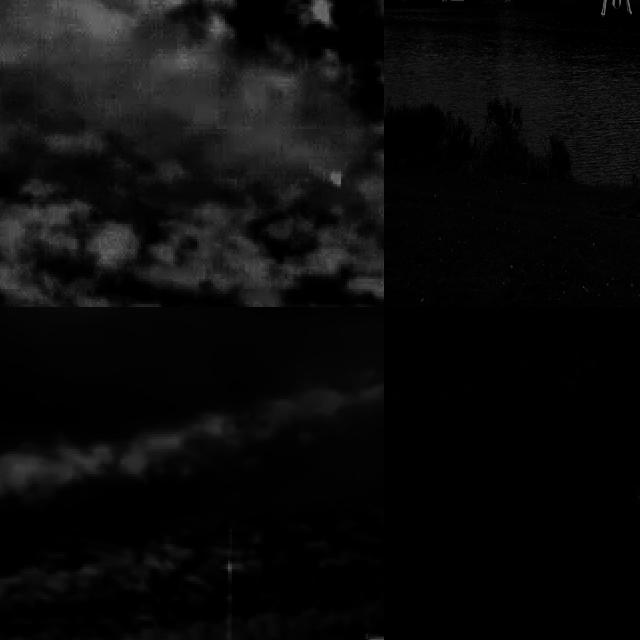0: (321, 167, 359, 199)
1: (630, 484, 640, 517)
drone: (583, 0, 640, 23)
